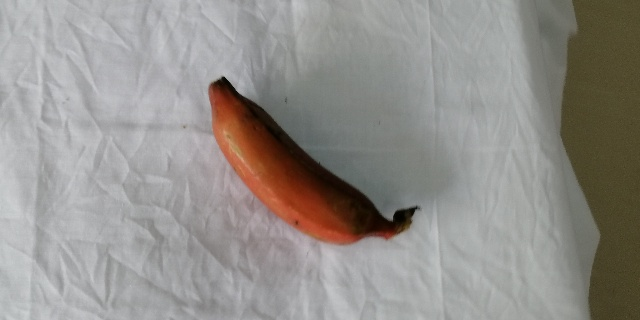banana_red: (202, 71, 419, 245)
